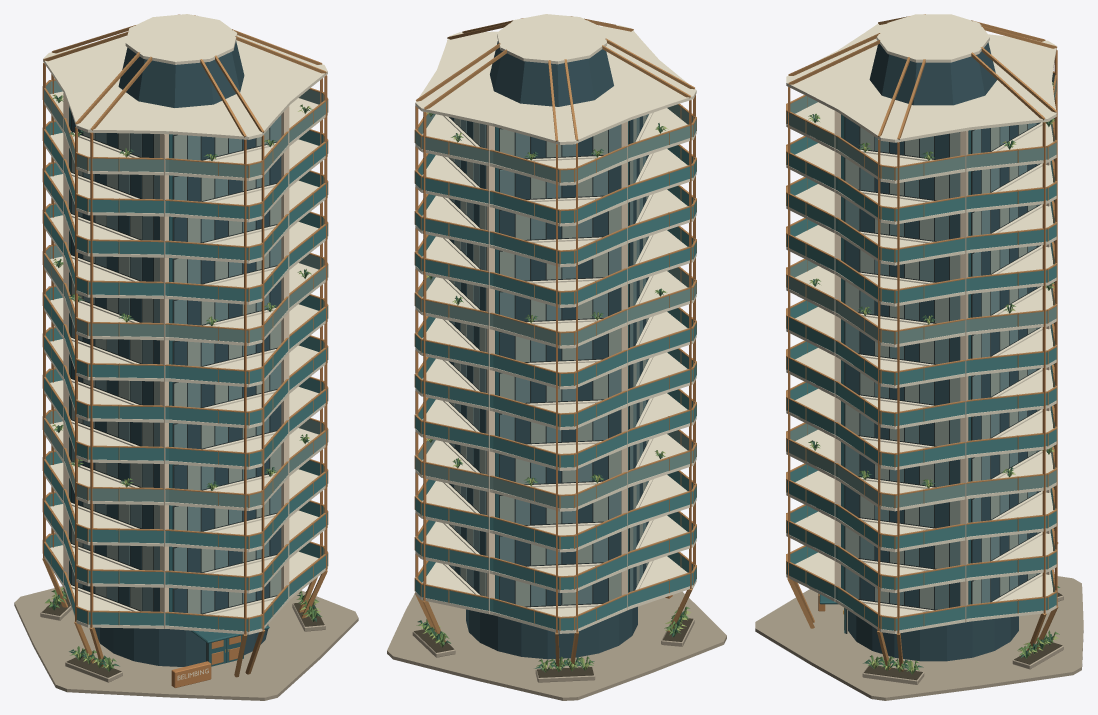
3 renders of one model, left to right at view 1: azimuth 30°, elevation 25°; view 2: azimuth 150°, elevation 25°; view 3: azimuth 270°, elevation 25°, orthographic.
Visible parts, largest first — view 1: Starfruit flutes, Five-lobed floor plates, Aluminium ribbon casements, Garden lobby, Lantern crown, Pandan planting, Garden beds, Entrance joinery; view 2: Starfruit flutes, Five-lobed floor plates, Aluminium ribbon casements, Garden lobby, Lantern crown, Pandan planting, Garden beds; view 3: Starfruit flutes, Five-lobed floor plates, Aluminium ribbon casements, Garden lobby, Lantern crown, Pandan planting, Garden beds.
Boxes of the visible parts, bbox=[...] form: Starfruit flutes: bbox=[42, 62, 328, 634]; Five-lobed floor plates: bbox=[43, 35, 327, 634]; Aluminium ribbon casements: bbox=[70, 112, 281, 614]; Garden lobby: bbox=[14, 558, 358, 700]; Lantern crown: bbox=[43, 14, 326, 137]; Pandan planting: bbox=[45, 94, 321, 671]; Garden beds: bbox=[40, 591, 325, 682]; Entrance joinery: bbox=[206, 635, 243, 666]; Starfruit flutes: bbox=[414, 95, 696, 633]; Five-lobed floor plates: bbox=[415, 25, 696, 633]; Aluminium ribbon casements: bbox=[443, 112, 653, 609]; Garden lobby: bbox=[387, 588, 726, 700]; Lantern crown: bbox=[416, 14, 694, 141]; Pandan planting: bbox=[416, 105, 690, 672]; Garden beds: bbox=[412, 618, 694, 682]; Starfruit flutes: bbox=[786, 50, 1057, 633]; Five-lobed floor plates: bbox=[786, 23, 1056, 633]; Aluminium ribbon casements: bbox=[844, 116, 1046, 611]; Garden lobby: bbox=[755, 542, 1083, 700]; Lantern crown: bbox=[788, 14, 1057, 139]; Pandan planting: bbox=[808, 82, 1059, 674]; Garden beds: bbox=[862, 592, 1063, 684].
Bounding box in the file's own units: 23.04 × 43.79 × 22.02.
